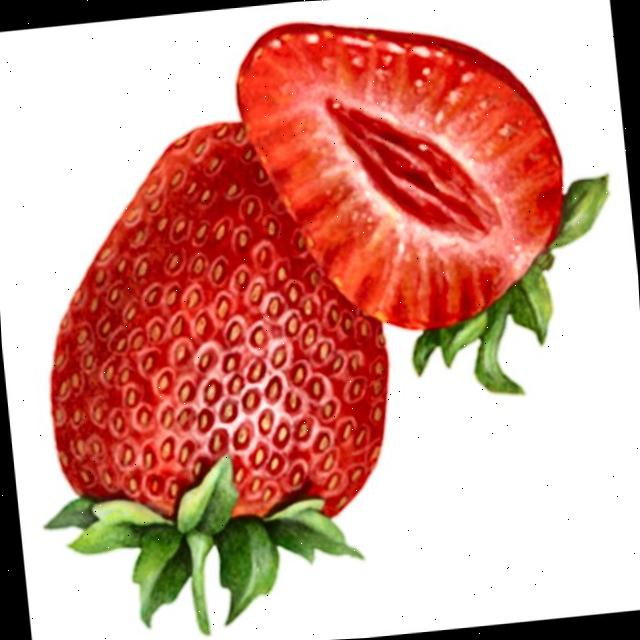strawberry: (45, 123, 387, 633), (239, 24, 606, 393)
